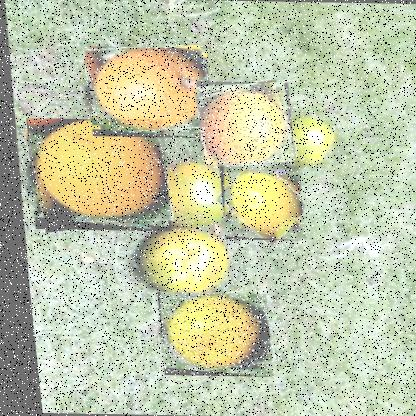orange: (19, 116, 167, 231), (80, 45, 212, 138), (147, 290, 265, 376), (190, 80, 292, 166), (212, 165, 300, 240)
